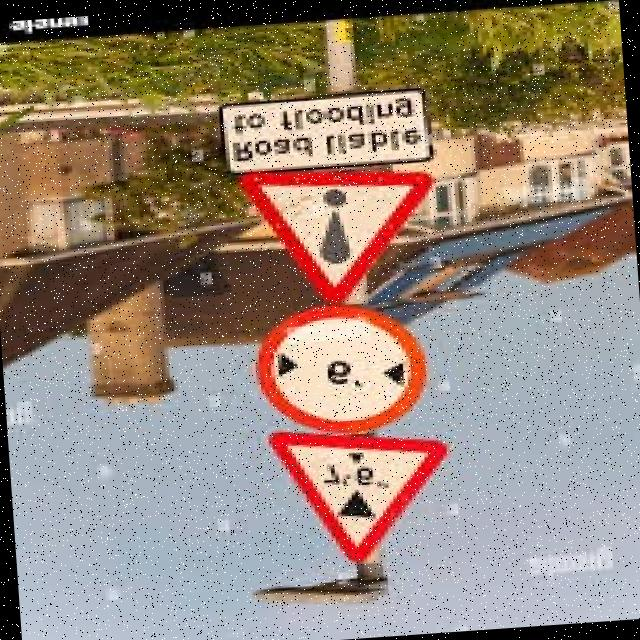warning: (234, 156, 461, 312)
